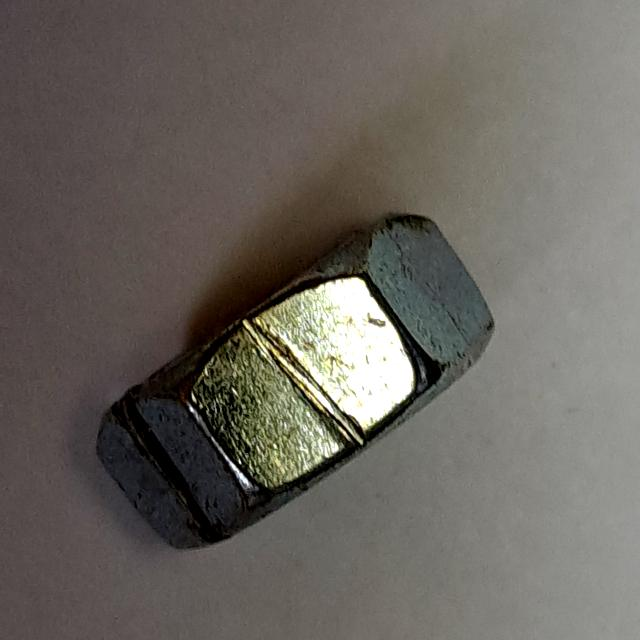Side_Scratches: (83, 205, 506, 562)
